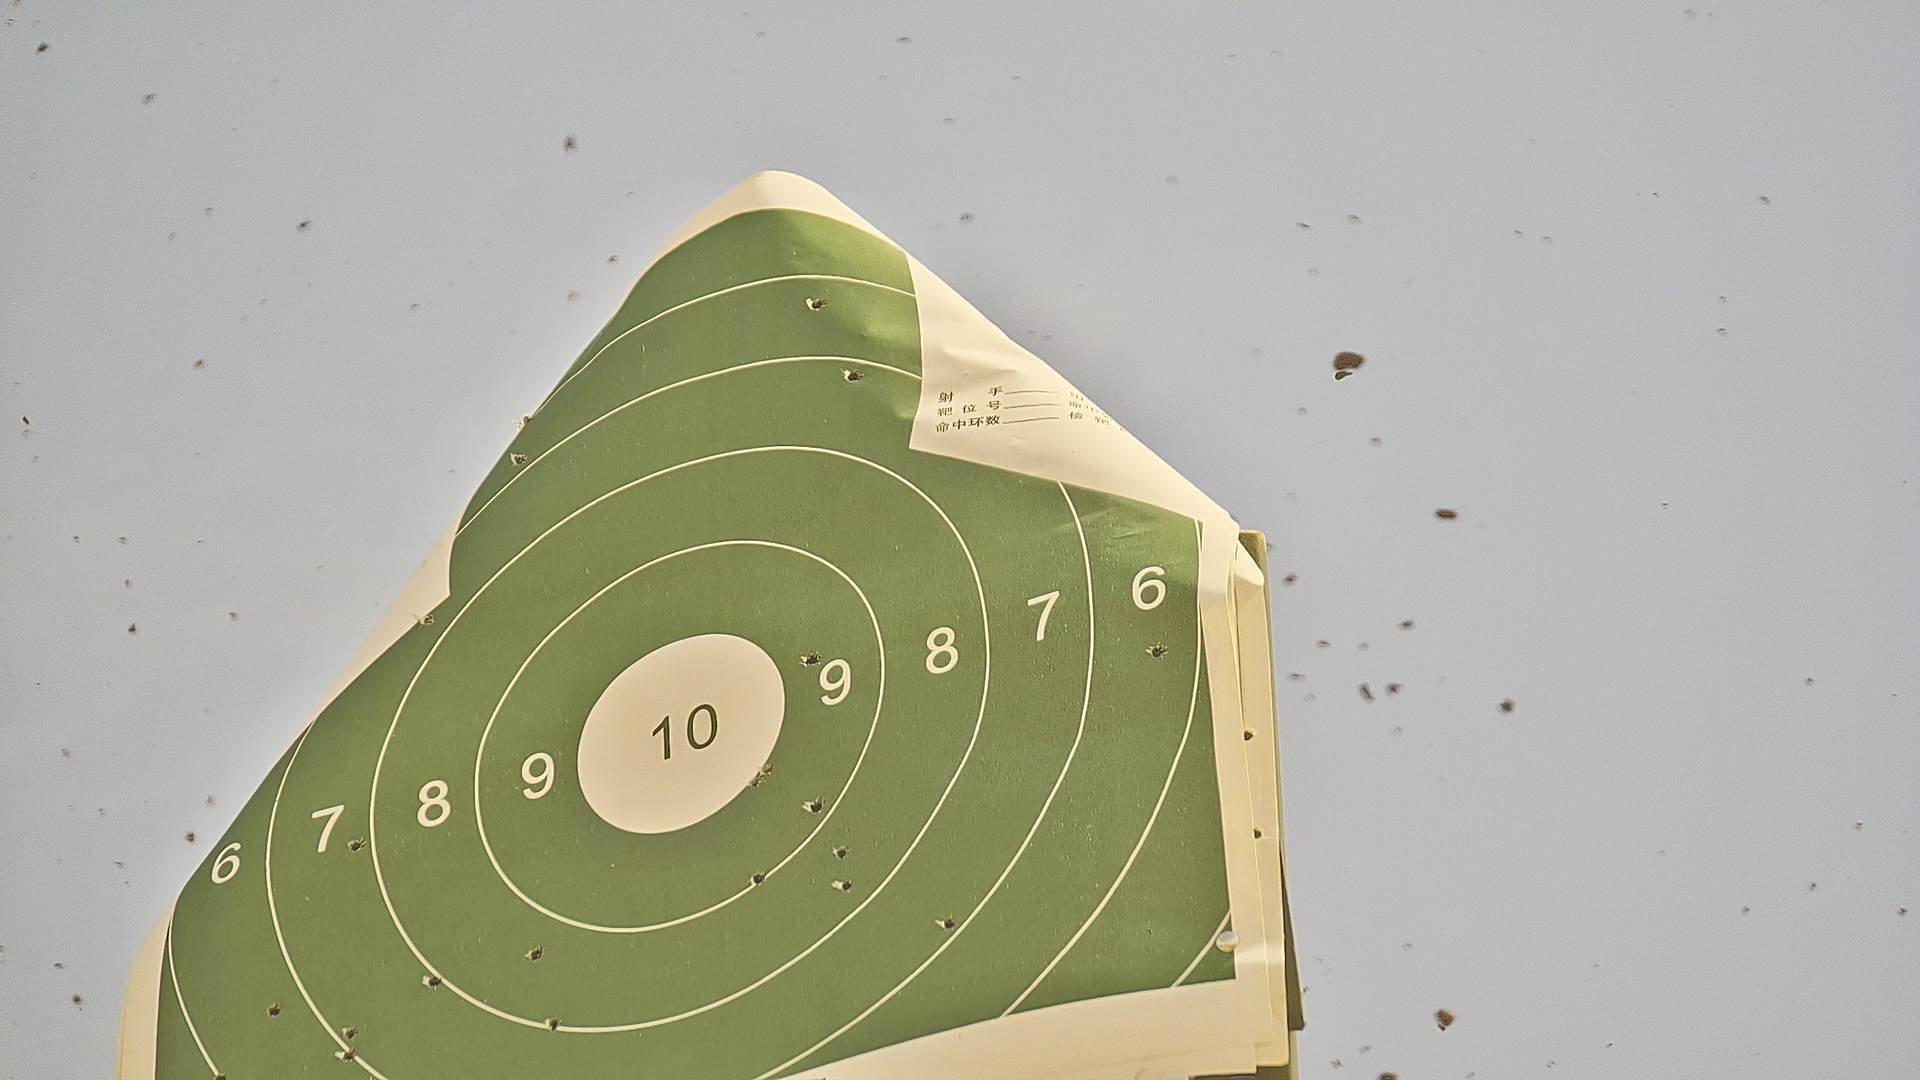hole: (339, 1048, 359, 1065), (804, 796, 824, 812), (527, 945, 545, 963), (843, 367, 862, 381), (836, 845, 852, 862), (342, 1025, 359, 1040), (418, 612, 438, 625), (545, 1015, 560, 1031), (1147, 644, 1164, 658), (347, 837, 363, 852), (752, 872, 765, 889), (749, 773, 762, 790), (425, 975, 440, 988), (803, 651, 818, 665), (840, 880, 855, 891), (943, 915, 955, 930), (811, 295, 822, 311), (513, 454, 526, 465), (268, 1004, 281, 1015), (762, 762, 775, 773), (214, 1069, 225, 1080)
kernel: (675, 735, 680, 736)
target: (153, 208, 1242, 1080)
ten: (578, 633, 782, 837)
